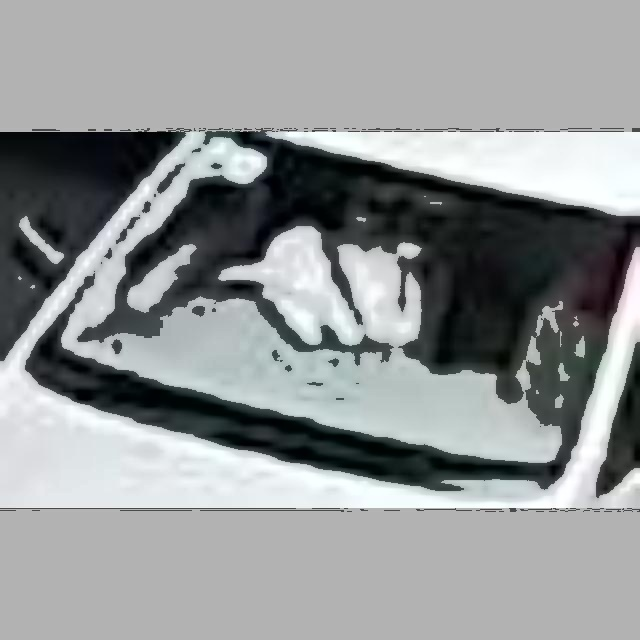pakai: (203, 185, 407, 396)
